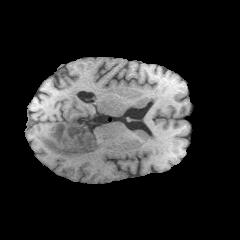glioma: (39, 123, 96, 159)
